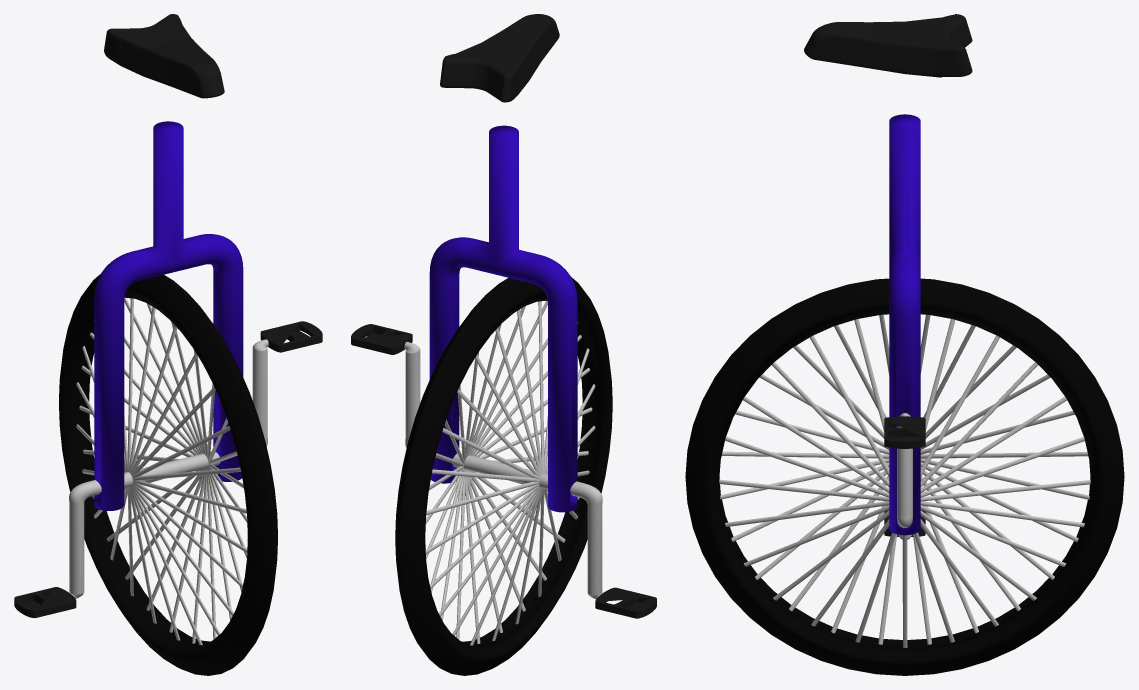
The model's file is Unicycle.fbx.
The picture shows the model from 3 angles, left to right: view 1: azimuth 30°, elevation 25°; view 2: azimuth 150°, elevation 25°; view 3: azimuth 270°, elevation 25°; orthographic projection. The views are drawn at different scales.
Visible parts, largest first — view 1: Wheel, Frame, Spokes, Seat, Axel, Pedal 2, Pedal 1; view 2: Wheel, Frame, Spokes, Seat, Axel, Pedal 2, Pedal 1; view 3: Wheel, Spokes, Frame, Seat, Pedal 1, Axel.
Boxes of the visible parts, <box> form: Wheel: <box>59,274,277,675</box>; Frame: <box>94,121,243,510</box>; Spokes: <box>76,297,247,645</box>; Seat: <box>104,14,224,98</box>; Axel: <box>69,339,268,598</box>; Pedal 2: <box>14,587,76,618</box>; Pedal 1: <box>260,321,322,352</box>; Wheel: <box>395,277,612,675</box>; Frame: <box>429,125,577,512</box>; Spokes: <box>425,300,595,645</box>; Seat: <box>440,14,559,102</box>; Axel: <box>404,342,602,599</box>; Pedal 2: <box>595,587,656,618</box>; Pedal 1: <box>351,324,412,354</box>; Wheel: <box>685,278,1124,675</box>; Spokes: <box>719,314,1090,647</box>; Frame: <box>889,114,920,535</box>; Seat: <box>804,14,972,77</box>; Pedal 1: <box>884,416,925,448</box>; Axel: <box>897,413,912,539</box>.
Bounding box in the file's own units: 114 × 228 × 140.
